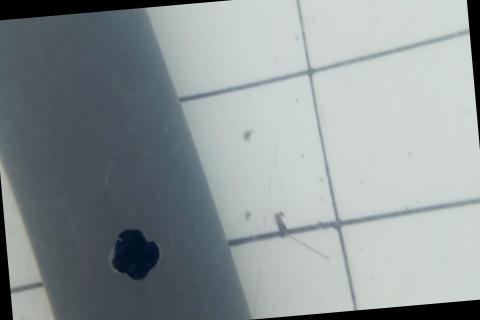kebocoran: (104, 222, 166, 285)
